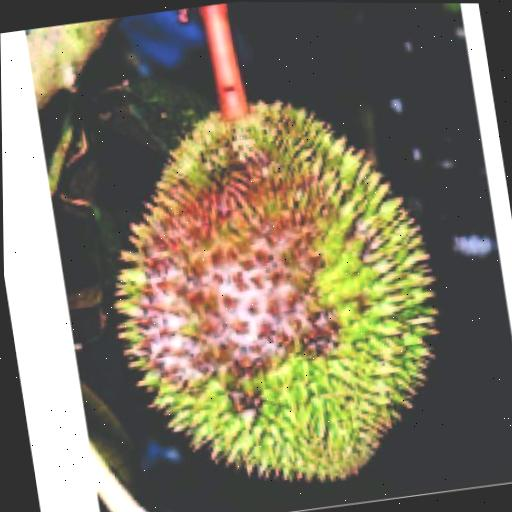rot: (35, 0, 493, 512)
